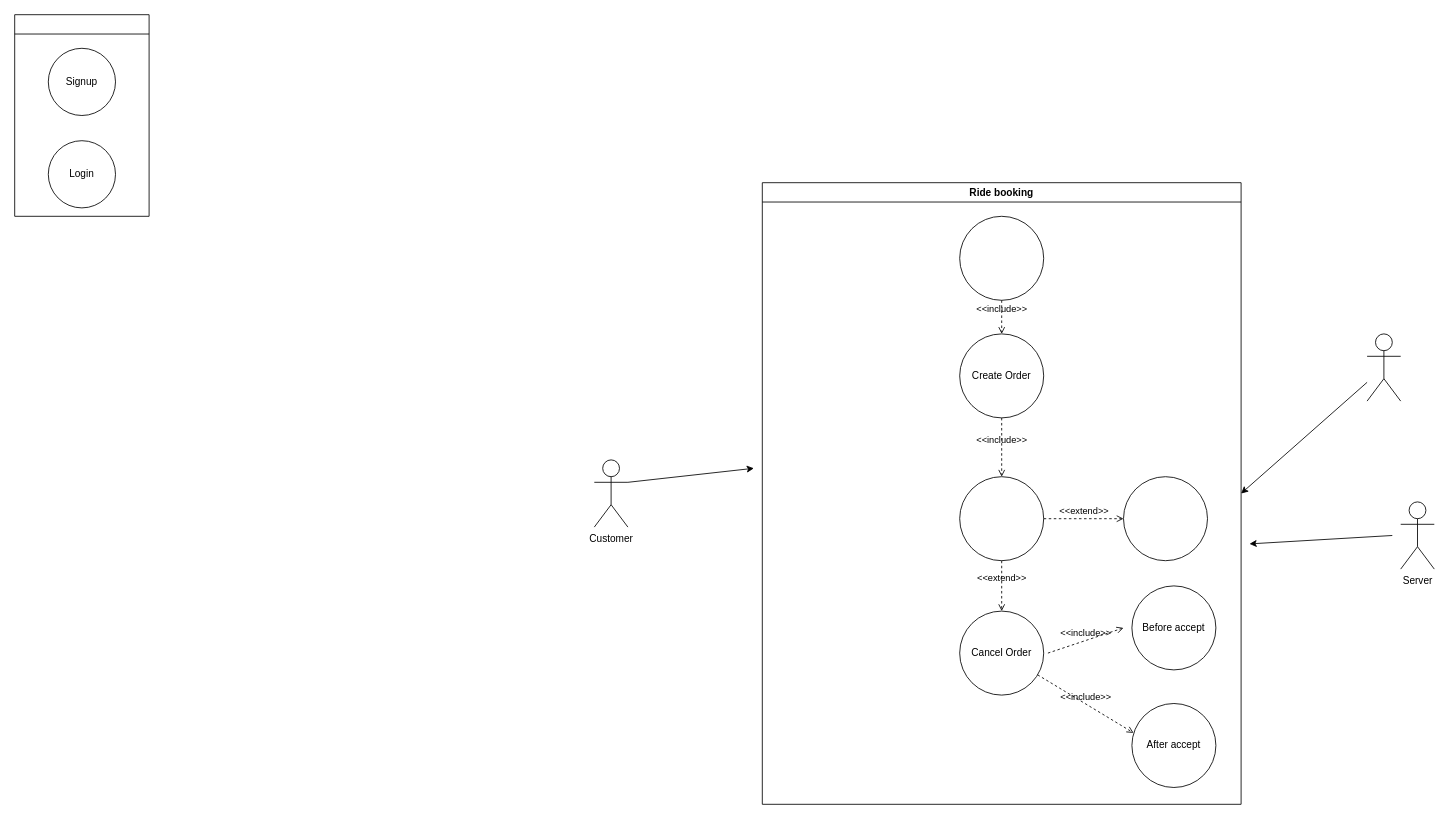
Some shapes in this 1449 by 819 pixel diagram are drawn without their labels. Each missing label, with the box of its shape:
Authentication: (14, 14, 149, 216)
Create and pay order: (959, 476, 1044, 561)
Fillout personal information: (959, 215, 1044, 300)
Modify order: (1123, 476, 1208, 561)
Stripe: (1366, 333, 1401, 401)
